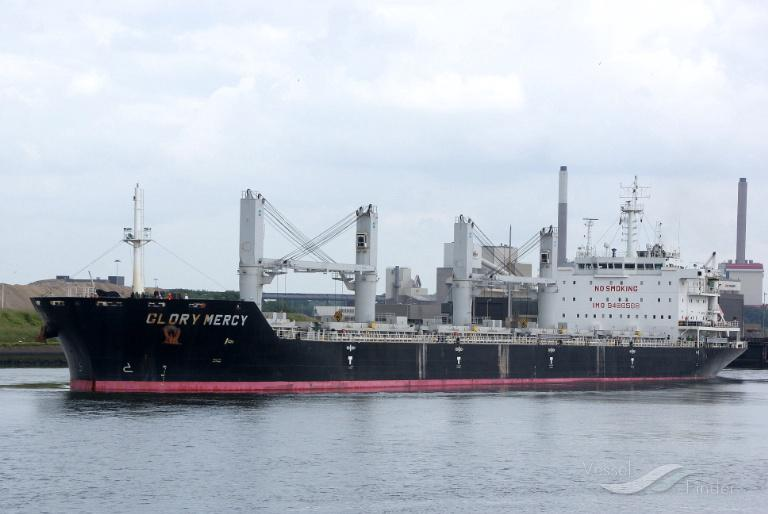OCR: (140, 303, 249, 333)
